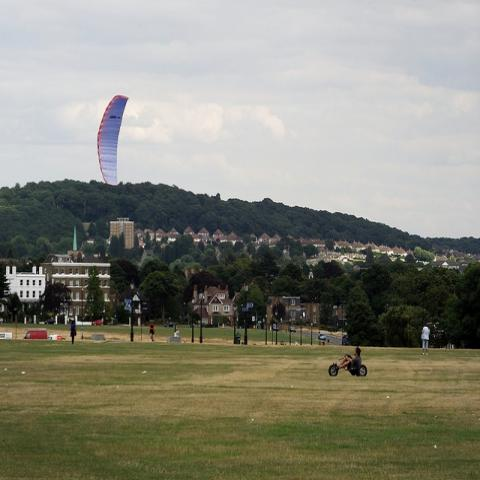car: (22, 330, 48, 338), (91, 333, 105, 341), (342, 334, 350, 346), (92, 320, 104, 327), (0, 332, 12, 339), (319, 332, 326, 340), (165, 321, 174, 327), (290, 327, 297, 333), (272, 325, 279, 331)
